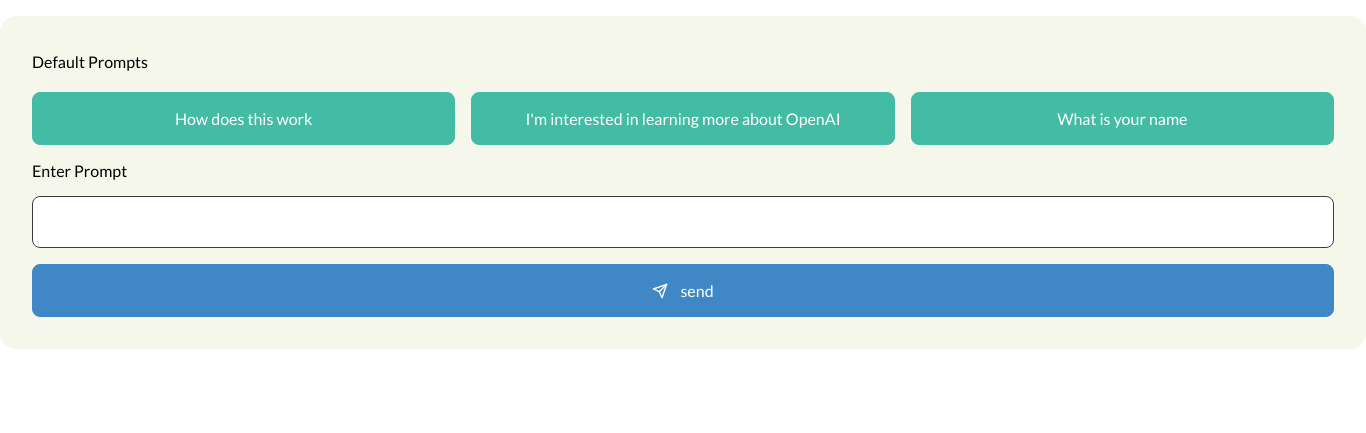
Form component › pass invalid question
Step 1. Type "a" into the field with test id "prompt" → (683, 222), box left=32, top=196, right=1334, bottom=248
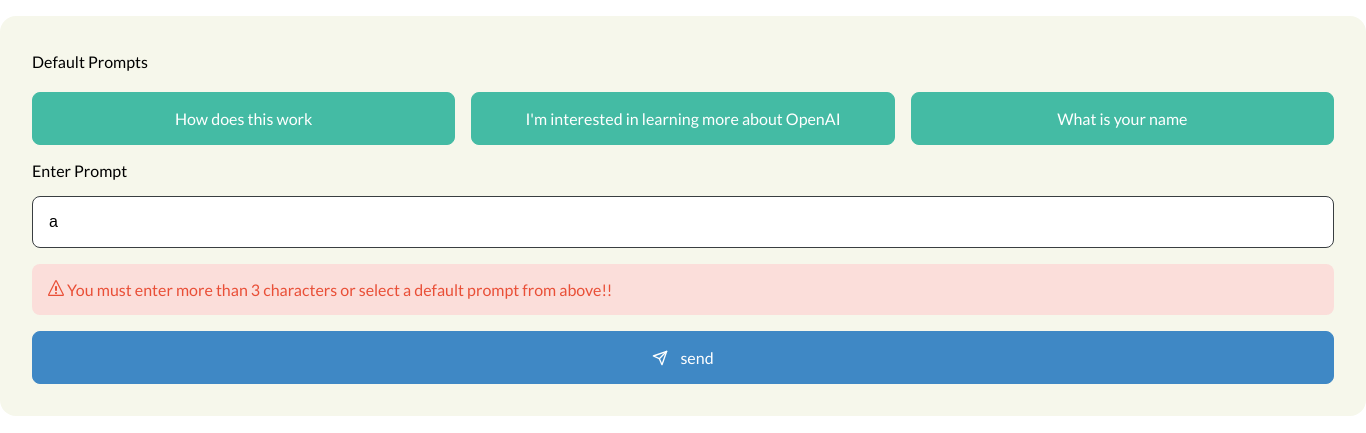
Expected: the element with test id "warning" is shown, left=32, top=264, right=1334, bottom=315
Expected: the element with test id "warning" reads "You must enter more than 3 characters or select a default prompt from above!!", left=64, top=280, right=612, bottom=299
